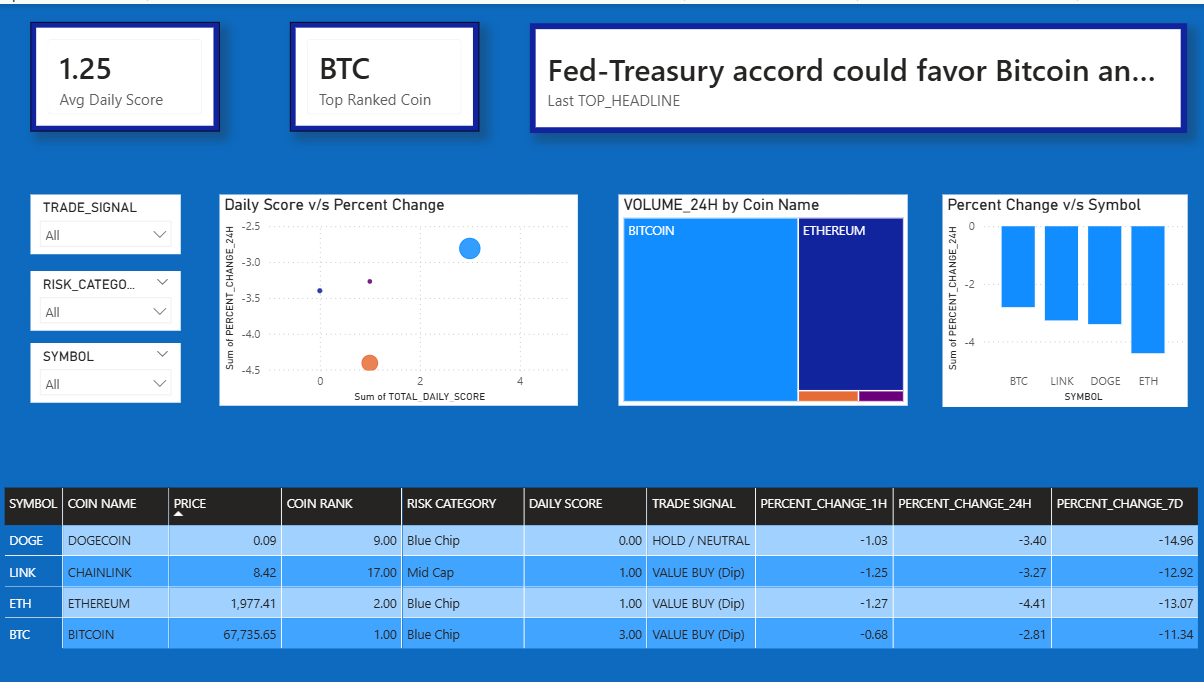

Layout of this report page (visuals, bound fields, positions):
{"tool":"powerbi","page":{"name":"Page 1","canvas":[1280,720],"ordinal":0},"visuals":[{"type":"tableEx","fields":{"Values":["CRYPTO_ANALYSIS.SYMBOL","CRYPTO_ANALYSIS.COIN_NAME","Sum(CRYPTO_ANALYSIS.PRICE)","Sum(CRYPTO_ANALYSIS.COIN_RANK)","CRYPTO_ANALYSIS.RISK_CATEGORY","Sum(CRYPTO_ANALYSIS.TOTAL_DAILY_SCORE)","CRYPTO_ANALYSIS.TRADE_SIGNAL","Sum(CRYPTO_ANALYSIS.PERCENT_CHANGE_1H)","Sum(CRYPTO_ANALYSIS.PERCENT_CHANGE_24H)","Sum(CRYPTO_ANALYSIS.PERCENT_CHANGE_7D)"]},"box":[0,507.4,1280.4,213.1],"z":0},{"type":"treemap","title":"VOLUME_24H by Coin Name","fields":{"Group":["CRYPTO_ANALYSIS.COIN_NAME"],"Values":["Sum(CRYPTO_ANALYSIS.VOLUME_24H)"]},"box":[656.9,202,307,224.3],"z":1000},{"type":"clusteredColumnChart","title":"Percent Change v/s Symbol","fields":{"Category":["CRYPTO_ANALYSIS.SYMBOL"],"Y":["Sum(CRYPTO_ANALYSIS.PERCENT_CHANGE_24H)"]},"box":[1000,201.7,260,225],"z":2000},{"type":"cardVisual","fields":{"Data":["CRYPTO_ANALYSIS.Avg Daily Score"]},"box":[33.4,19.1,200.4,116.1],"z":3000},{"type":"cardVisual","fields":{"Data":["CRYPTO_ANALYSIS.Top Ranked Coin"]},"box":[308.6,19.1,200.4,116.1],"z":4000},{"type":"cardVisual","title":"News Headline","fields":{"Data":["Max(CRYPTO_ANALYSIS.TOP_HEADLINE)"]},"box":[563.1,20.7,696.7,116.1],"z":5000},{"type":"slicer","fields":{"Values":["CRYPTO_ANALYSIS.RISK_CATEGORY"]},"box":[33.4,283.1,159.1,63.6],"z":6000},{"type":"slicer","fields":{"Values":["CRYPTO_ANALYSIS.TRADE_SIGNAL"]},"box":[33.4,202,159.1,63.6],"z":7000},{"type":"slicer","fields":{"Values":["CRYPTO_ANALYSIS.SYMBOL"]},"box":[33.4,359.5,159.1,63.6],"z":8000},{"type":"scatterChart","title":"Daily Score v/s Percent Change","fields":{"X":["Sum(CRYPTO_ANALYSIS.TOTAL_DAILY_SCORE)"],"Y":["Sum(CRYPTO_ANALYSIS.PERCENT_CHANGE_24H)"],"Category":["CRYPTO_ANALYSIS.COIN_NAME"],"Size":["Sum(CRYPTO_ANALYSIS.VOLUME_24H)"],"Series":["CRYPTO_ANALYSIS.SYMBOL"]},"box":[233.8,202,380.2,224.3],"z":9000}]}

Visuals, with their boxes in screenshot pixels (x1, y1, x2, y2), scaled from the page's 1280x720 canvas onto the 1204x682 screenshot:
tableEx - CRYPTO_ANALYSIS.SYMBOL x CRYPTO_ANALYSIS.COIN_NAME: 0:481:1203:681
"VOLUME_24H by Coin Name" treemap: 618:191:907:404
"Percent Change v/s Symbol" clusteredColumnChart: 941:191:1185:404
cardVisual - CRYPTO_ANALYSIS.Avg Daily Score: 31:18:220:128
cardVisual - CRYPTO_ANALYSIS.Top Ranked Coin: 290:18:479:128
"News Headline" cardVisual: 530:20:1185:130
slicer - CRYPTO_ANALYSIS.RISK_CATEGORY: 31:268:181:328
slicer - CRYPTO_ANALYSIS.TRADE_SIGNAL: 31:191:181:252
slicer - CRYPTO_ANALYSIS.SYMBOL: 31:341:181:401
"Daily Score v/s Percent Change" scatterChart: 220:191:578:404
